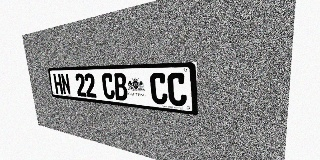2: (84, 73, 97, 98), (75, 73, 87, 97)
B: (113, 73, 128, 101)
C: (167, 73, 187, 107), (150, 73, 168, 105), (101, 73, 115, 100)
H: (53, 74, 63, 94)
N: (60, 73, 71, 95)
